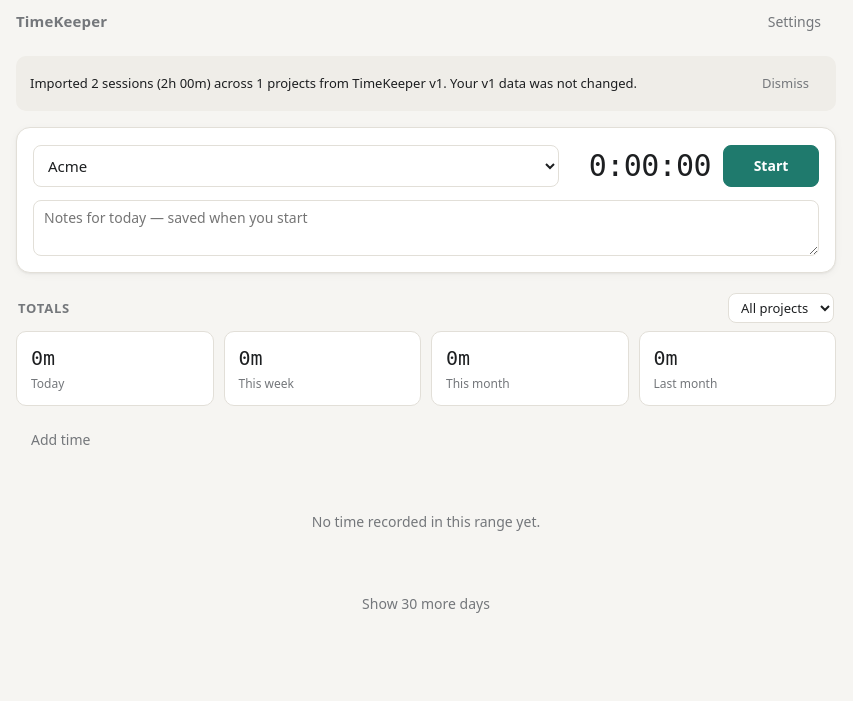
Test case: App › shows an error when starting the timer fails
Click the button "Start": click(771, 166) x1=723 y1=145 x2=819 y2=187
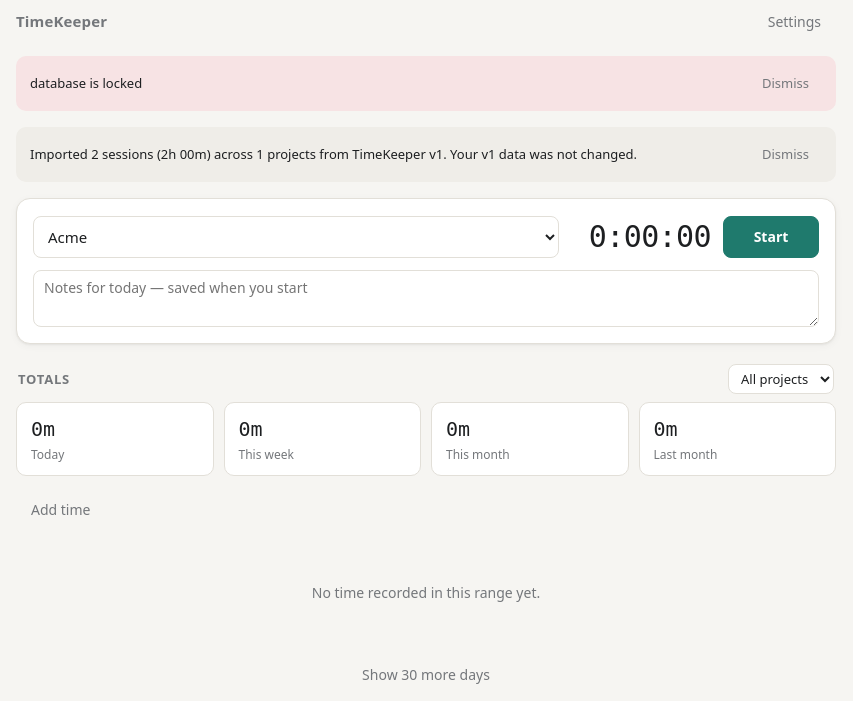
Now the text "database is locked" is shown, box x1=30 y1=74 x2=142 y2=93
